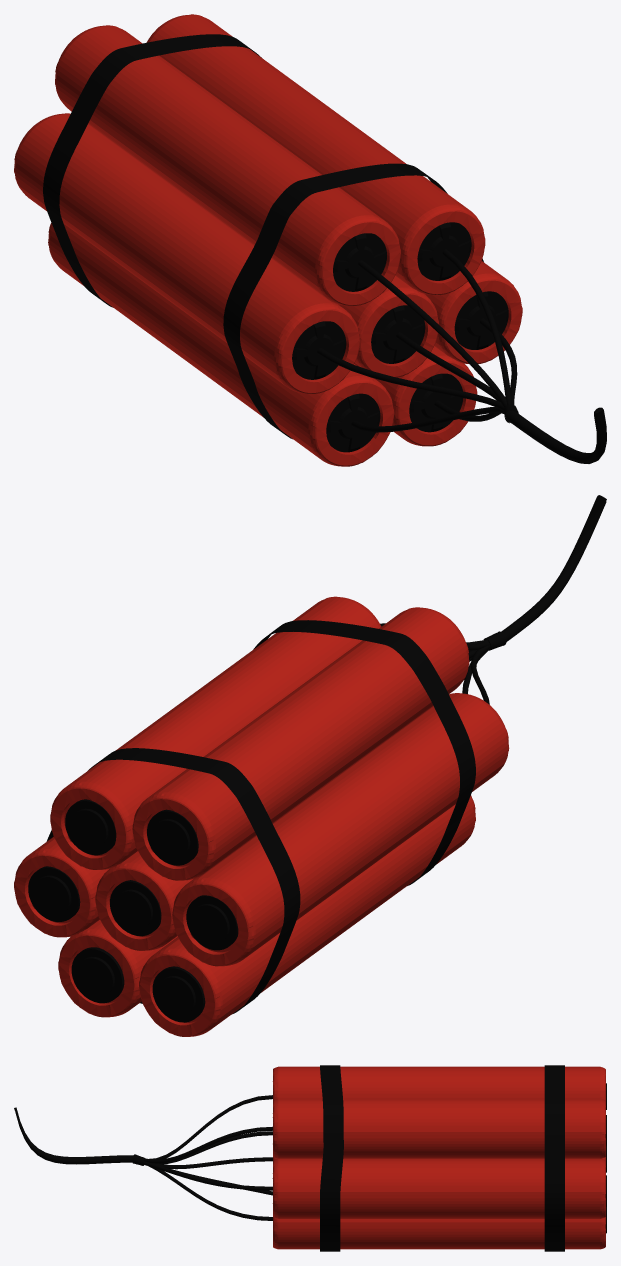
The model's file is dynamite.fbx.
3 renders of one model, top to bottom at view 1: azimuth 30°, elevation 25°; view 2: azimuth 150°, elevation 25°; view 3: azimuth 270°, elevation 25°, orthographic. The views are drawn at different scales.
Parts seen in each view (by area): view 1: Cylinder.010, Cylinder.012, Cylinder.008, Cylinder.004, BezierCircle.001, BezierCircle, Cylinder.006, Cylinder, Cylinder.002, Cylinder.005, Cylinder.009, Cylinder.013 (+10 smaller); view 2: Cylinder.010, Cylinder.012, Cylinder.008, Cylinder.004, BezierCircle, BezierCircle.001, Cylinder.006, Cylinder.002, Cylinder, Cylinder.030, Cylinder.029, Cylinder.026 (+5 smaller); view 3: Cylinder.008, Cylinder.006, Cylinder.010, Cylinder.002, BezierCircle.001, BezierCircle, BezierCurve.007, BezierCurve.003, BezierCurve.004, BezierCurve.001, BezierCurve.005, BezierCurve (+1 smaller).
Boxes of the visible parts, x1,y1,x2,y2 form: Cylinder.010: (55,25,400,305); Cylinder.012: (14,113,359,393); Cylinder.008: (146,14,485,295); Cylinder.004: (48,223,394,466); BezierCircle.001: (223,163,483,439); BezierCircle: (43,34,261,307); Cylinder.006: (425,261,522,364); Cylinder: (338,275,438,377); Cylinder.002: (354,346,477,446); Cylinder.005: (326,393,380,452); Cylinder.009: (417,222,471,280); Cylinder.013: (292,321,346,379); Cylinder.010: (132,607,469,880); Cylinder.012: (172,693,509,966); Cylinder.008: (50,596,381,869); Cylinder.004: (139,795,475,1036); BezierCircle: (46,748,300,1014); BezierCircle.001: (253,620,475,885); Cylinder.006: (14,837,108,937); Cylinder.002: (58,920,177,1017); Cylinder: (95,851,192,950); Cylinder.030: (71,947,124,1003); Cylinder.029: (152,966,205,1022); Cylinder.026: (110,880,161,936); Cylinder.008: (272,1098,605,1158); Cylinder.006: (272,1158,605,1218); Cylinder.010: (272,1066,605,1100); Cylinder.002: (272,1203,605,1249); BezierCircle.001: (320,1065,343,1251); BezierCircle: (544,1065,564,1251); BezierCurve.007: (15,1107,133,1164); BezierCurve.003: (143,1161,272,1190); BezierCurve.004: (144,1126,272,1163); BezierCurve.001: (149,1166,272,1220); BezierCurve.005: (149,1095,272,1159); BezierCurve: (153,1157,272,1169).
Size of the model in its own units: 231 by 225 by 766.
